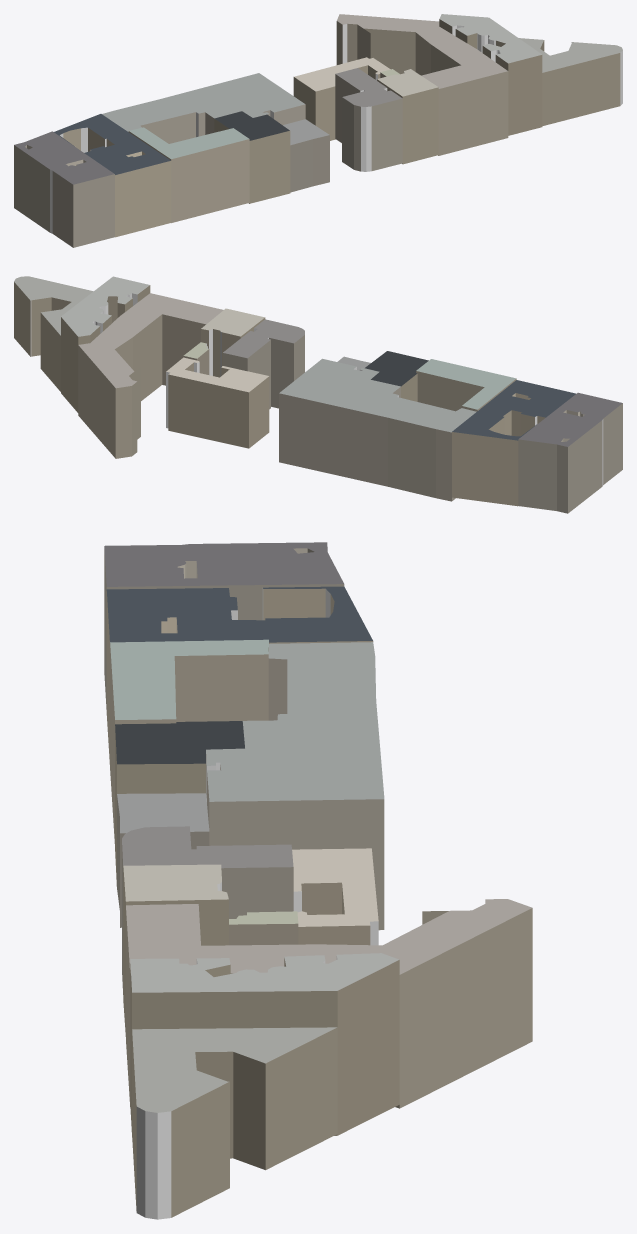
3 views of the same model, one above another, from view 1: azimuth 30°, elevation 25°; view 2: azimuth 150°, elevation 25°; view 3: azimuth 270°, elevation 25° (orthographic). The views are drawn at different scales.
Visible parts, largest first — view 1: tuile; view 2: tuile; view 3: tuile.
Boxes of the visible parts, box(x1,y1,x2,y2) form: tuile: box(14, 14, 622, 247); tuile: box(14, 276, 622, 513); tuile: box(104, 542, 532, 1219).
Size of the model in its own units: 267 by 34.35 by 87.59.
